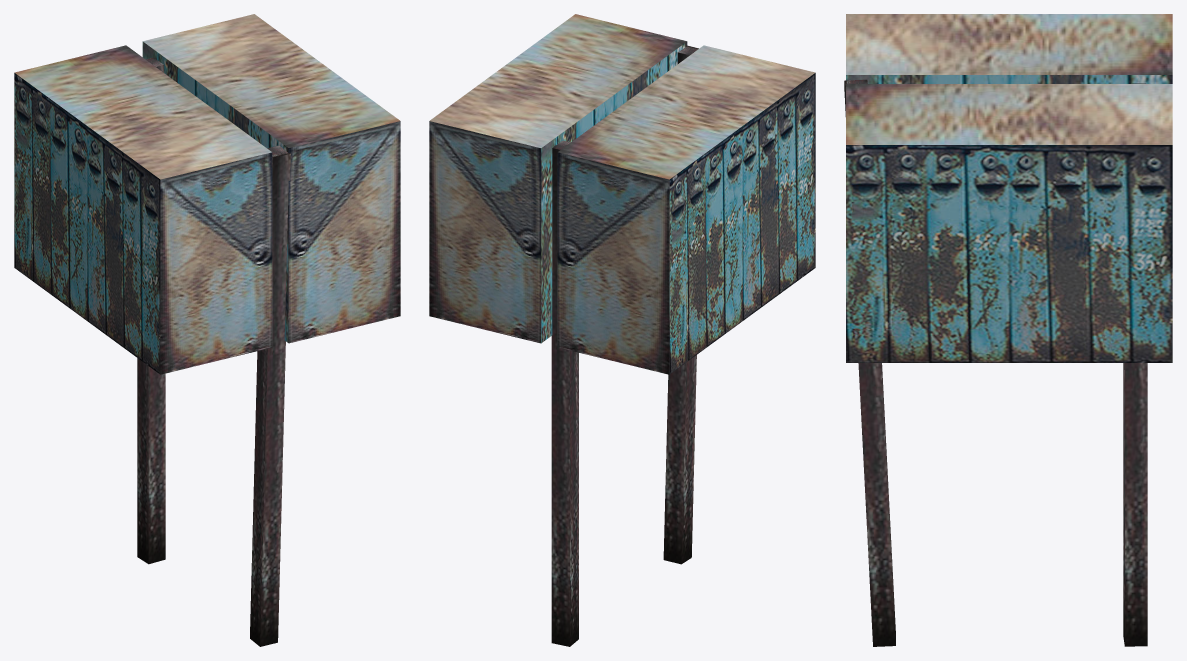
File: sibir_pochtovi_yashik5.FBX
3 renders of one model, left to right at view 1: azimuth 30°, elevation 25°; view 2: azimuth 150°, elevation 25°; view 3: azimuth 270°, elevation 25°, orthographic. The views are drawn at different scales.
Visible parts, largest first — view 1: sibir_pochtovi_yashik5; view 2: sibir_pochtovi_yashik5; view 3: sibir_pochtovi_yashik5.
Part boxes in pixels (box(x1,y1,x2,y2)): sibir_pochtovi_yashik5: box(14, 14, 400, 646); sibir_pochtovi_yashik5: box(429, 14, 815, 646); sibir_pochtovi_yashik5: box(844, 14, 1172, 646).
Bounding box in the file's own units: 64.4 × 68.22 × 129.
